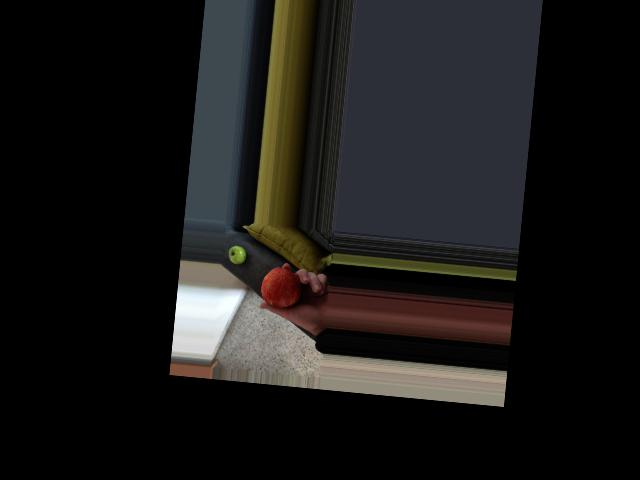apple: (226, 239, 252, 266)
